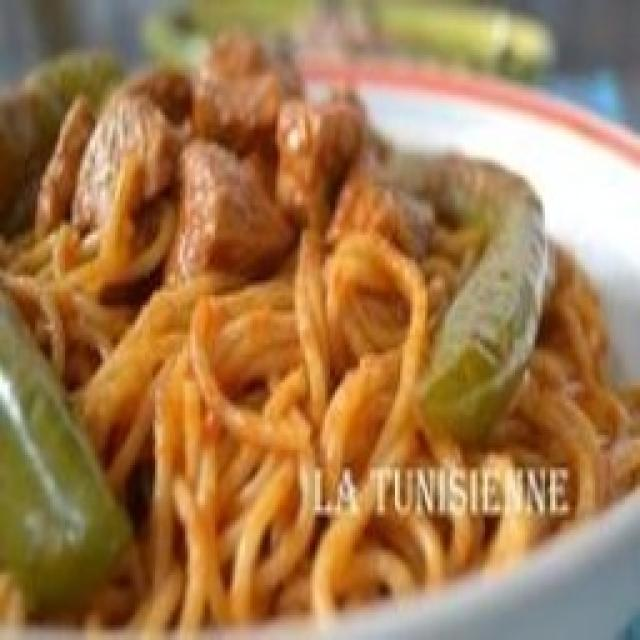Pasta: (0, 32, 640, 640)
